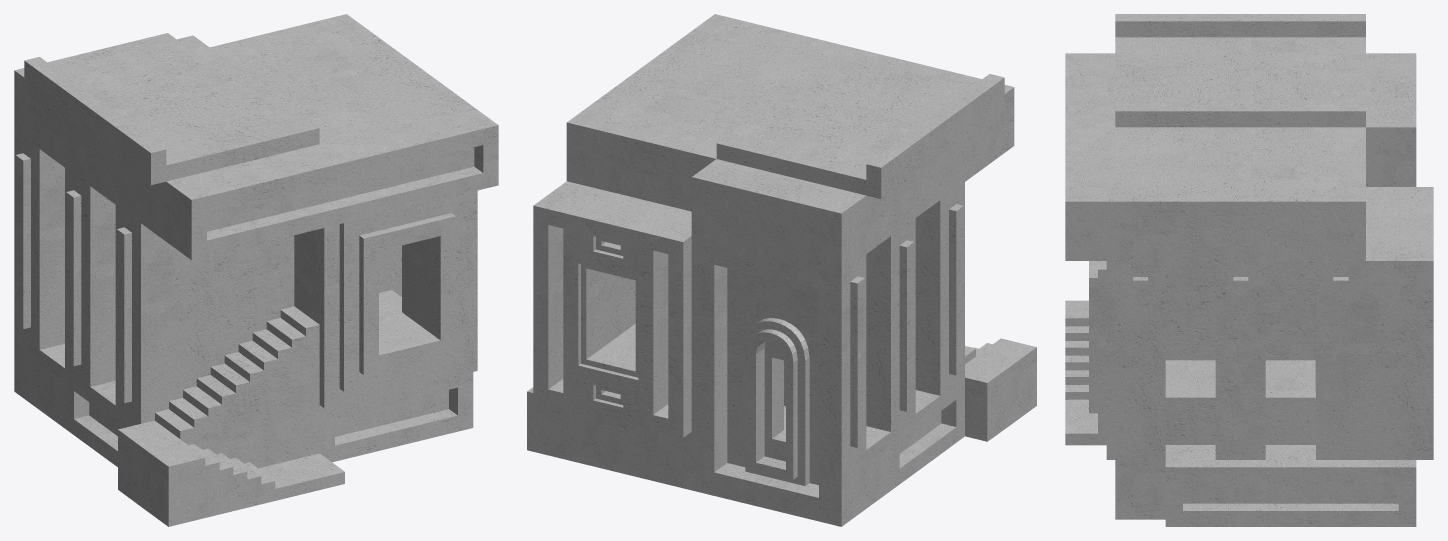
3 views of the same model, side by side, from view 1: azimuth 30°, elevation 25°; view 2: azimuth 150°, elevation 25°; view 3: azimuth 270°, elevation 25° (orthographic). The views are drawn at different scales.
Parts seen in each view (by area): view 1: sculpture_concrete_01_0; view 2: sculpture_concrete_01_0; view 3: sculpture_concrete_01_0.
Boxes of the visible parts, x1,y1,x2,y2 form: sculpture_concrete_01_0: (14, 14, 498, 526); sculpture_concrete_01_0: (527, 14, 1036, 526); sculpture_concrete_01_0: (1065, 14, 1433, 526).
Bounding box in the file's own units: 44.29 × 43.31 × 41.34.
1 material, 1 textured.
